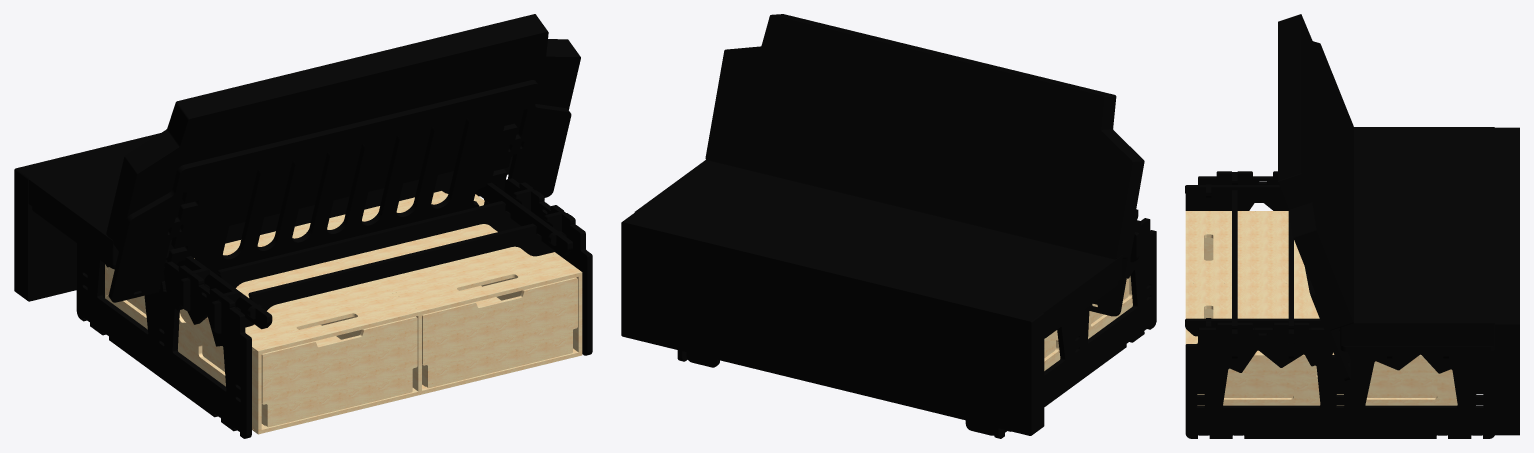
The model's file is Cuillin_expedition_assise.glb.
3 views of the same model, side by side, from view 1: azimuth 30°, elevation 25°; view 2: azimuth 150°, elevation 25°; view 3: azimuth 270°, elevation 25° (orthographic). The views are drawn at different scales.
Size of the model in its own units: 1.51 by 0.9563 by 1.08.
Materials: 2 (1 with a texture image).
